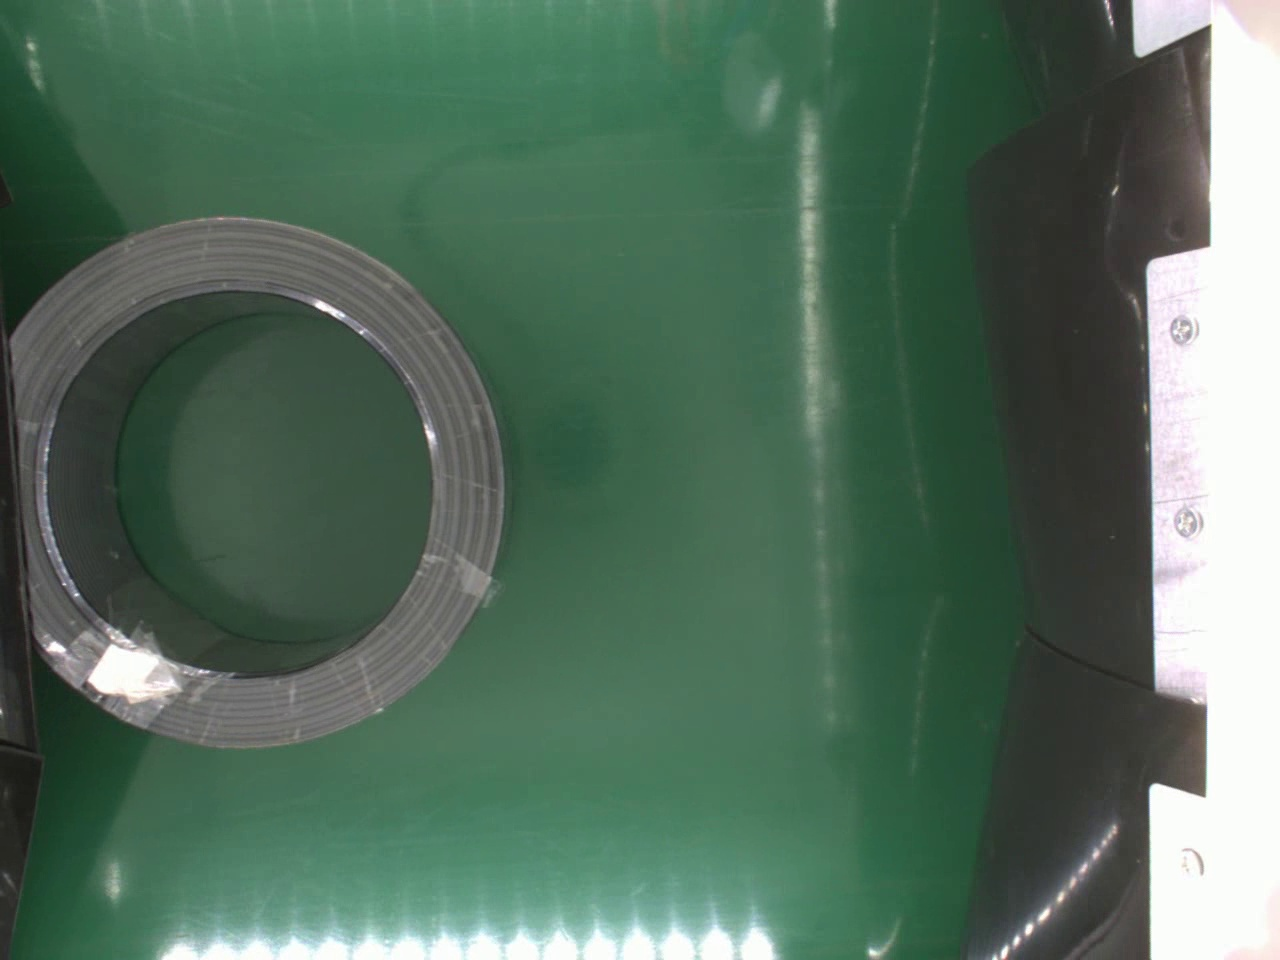black: (12, 210, 517, 752)
